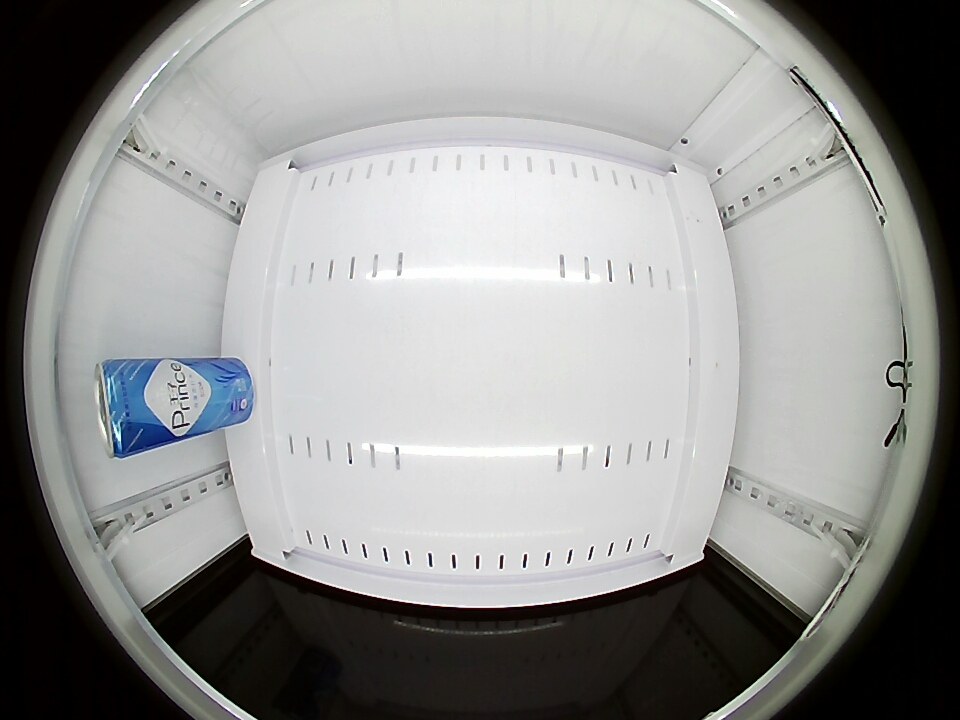qingdaowangzi-2: (95, 358, 160, 459)
